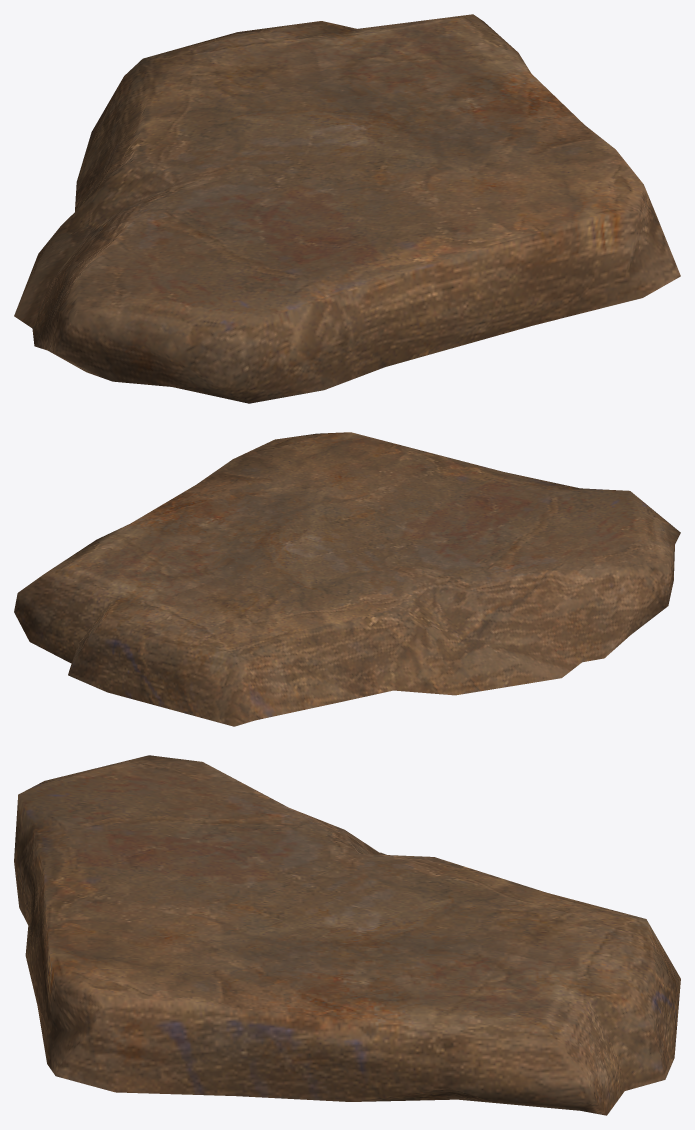
The model's file is Rock_Shales_05.fbx.
3 views of the same model, one above another, from view 1: azimuth 30°, elevation 25°; view 2: azimuth 150°, elevation 25°; view 3: azimuth 270°, elevation 25° (orthographic). The views are drawn at different scales.
Visible parts, largest first — view 1: polySurface230; view 2: polySurface230; view 3: polySurface230.
Part boxes in pixels (left/top/right/bottom): polySurface230: left=14, top=14, right=680, bottom=403; polySurface230: left=14, top=432, right=680, bottom=726; polySurface230: left=14, top=755, right=680, bottom=1115.
Size of the model in its own units: 100 by 16 by 93.25.
